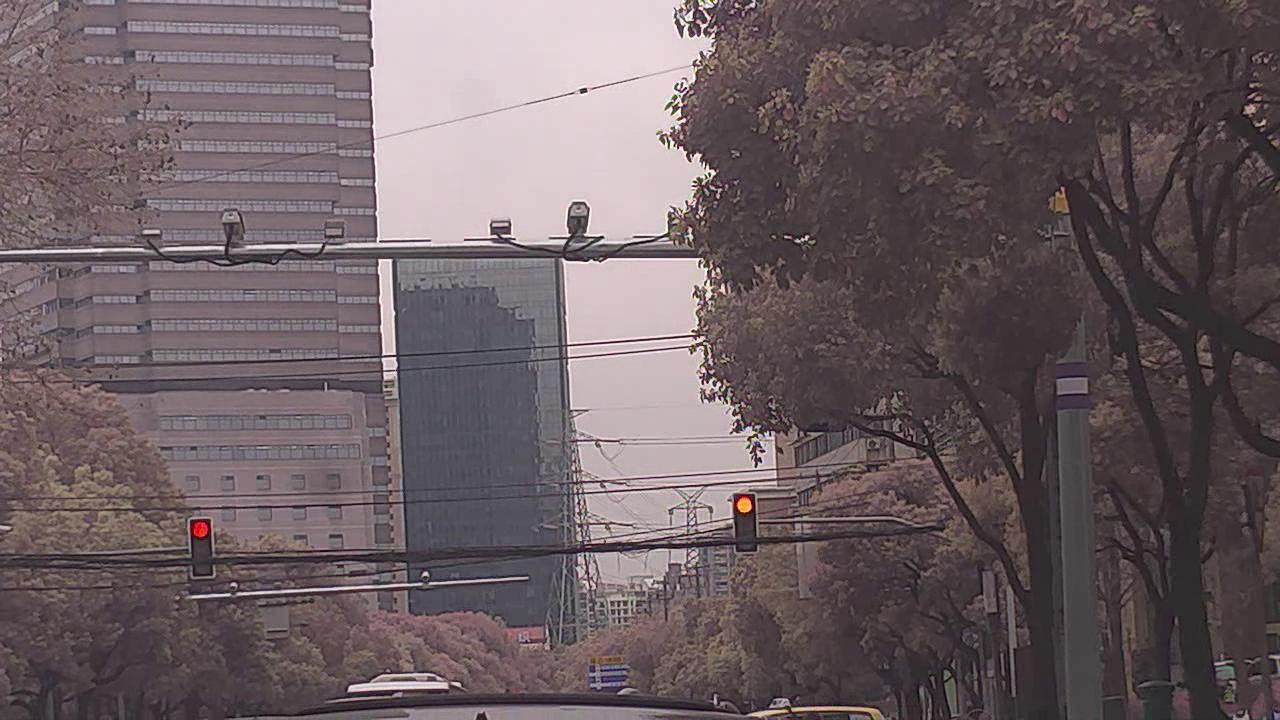traffic_light: (731, 488, 759, 555), (190, 519, 215, 581)
